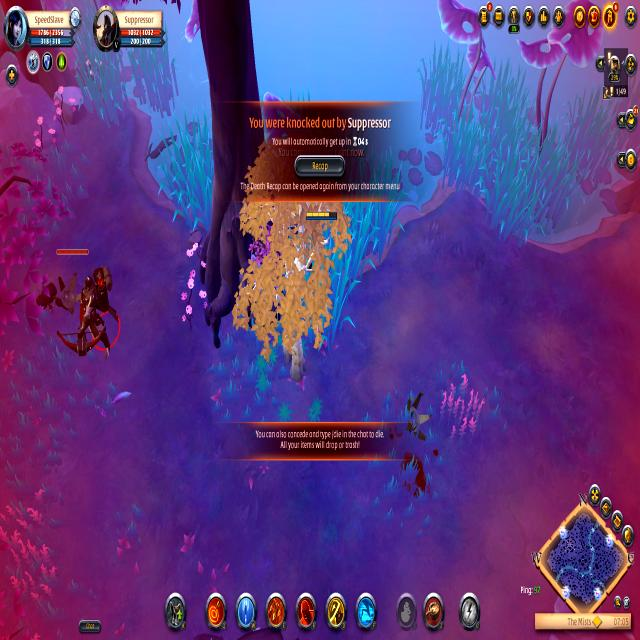ore: (51, 232, 127, 380)
red: (305, 204, 338, 261)
wisp caged: (236, 132, 344, 398)
